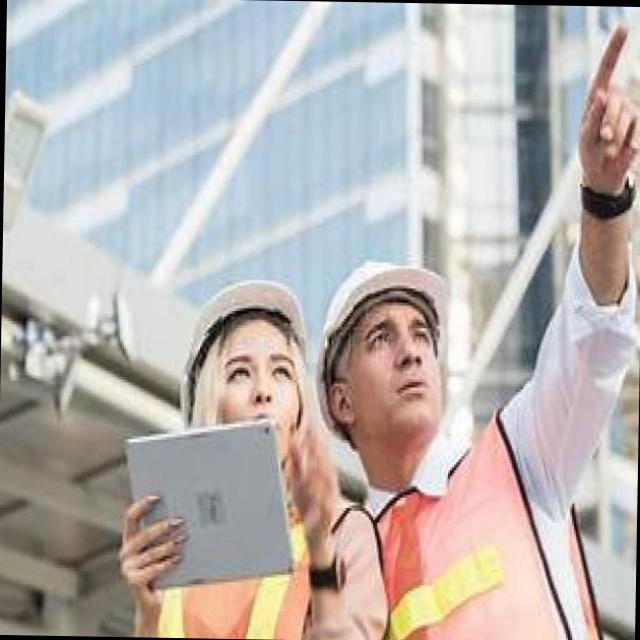not-gloved: (577, 13, 640, 207), (112, 479, 182, 614)
